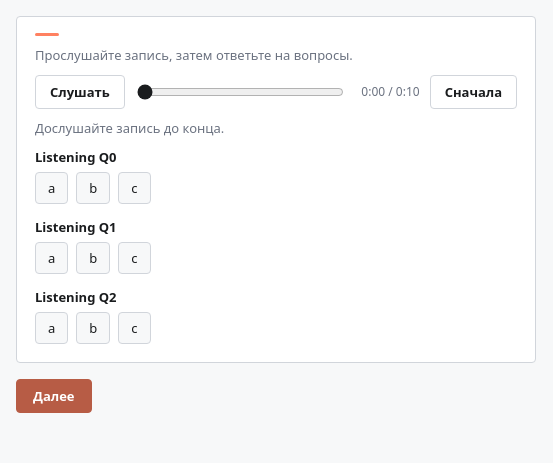
Test: OnboardingPlacement › scrub to end without native ended keeps must-play gate locked (no PATCH)
Set the slider with test id "listening-scrub" to "10" at point(336, 92), box [137,84,344,100]
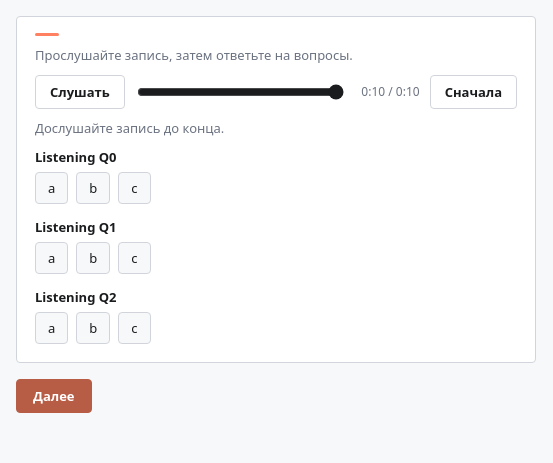
Click the button with test id "listening-submit" at point(54, 396), box [16,379,92,413]
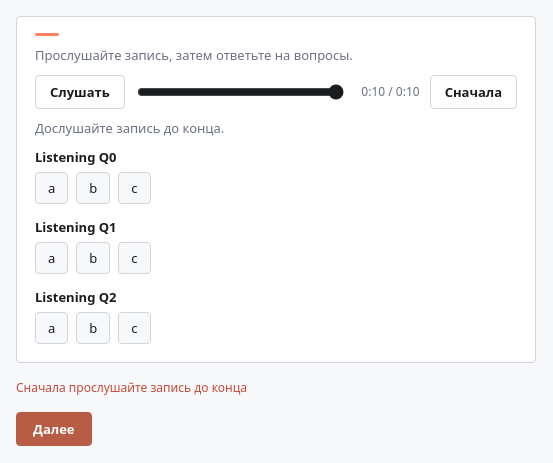
Expected: the message with test id "listening-save-error" shows "прослушайте", [16,379,247,396]
